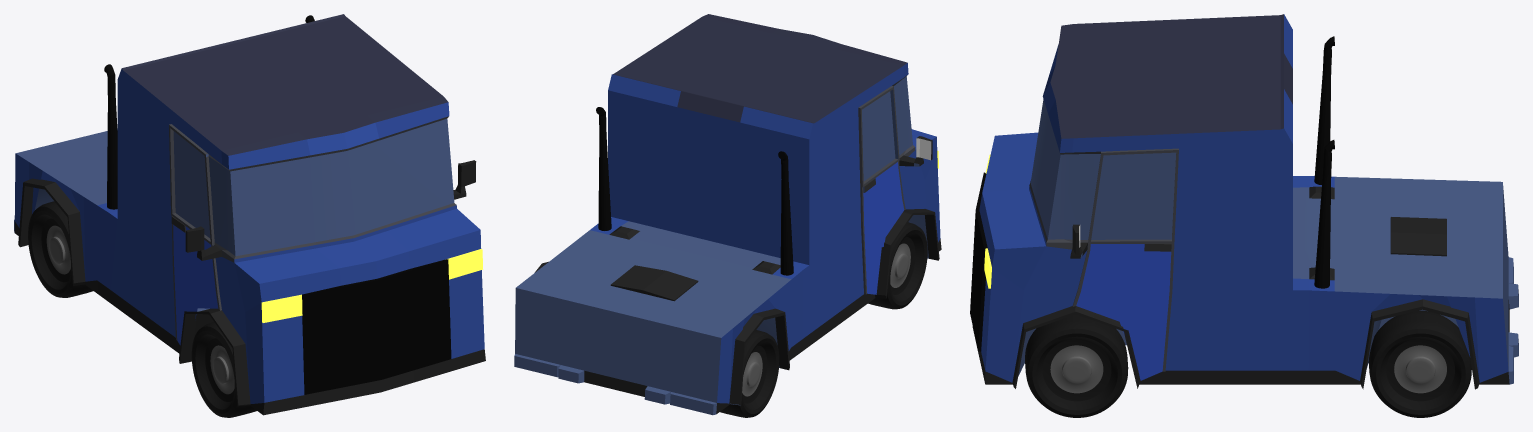
3 renders of one model, left to right at view 1: azimuth 30°, elevation 25°; view 2: azimuth 150°, elevation 25°; view 3: azimuth 270°, elevation 25°, orthographic. The views are drawn at different scales.
Visible parts, largest first — view 1: Truck_Base_2, Truck_RB_Tire_5, Truck_RF_Tire_6; view 2: Truck_Base_2, Truck_RB_Tire_5, Truck_RF_Tire_6; view 3: Truck_Base_2, Truck_LB_Tire_3, Truck_LF_Tire_4.
Part boxes in pixels (left/top/right/bottom): Truck_Base_2: left=14, top=14, right=485, bottom=415; Truck_RB_Tire_5: left=28, top=201, right=93, bottom=297; Truck_RF_Tire_6: left=191, top=322, right=256, bottom=417; Truck_Base_2: left=514, top=14, right=941, bottom=415; Truck_RB_Tire_5: left=720, top=330, right=779, bottom=417; Truck_RF_Tire_6: left=868, top=222, right=927, bottom=309; Truck_Base_2: left=970, top=14, right=1518, bottom=389; Truck_LB_Tire_3: left=1368, top=310, right=1471, bottom=417; Truck_LF_Tire_4: left=1025, top=314, right=1128, bottom=417.
Size of what is drawn, in the model's own units: 2.6 by 2.36 by 4.06.
